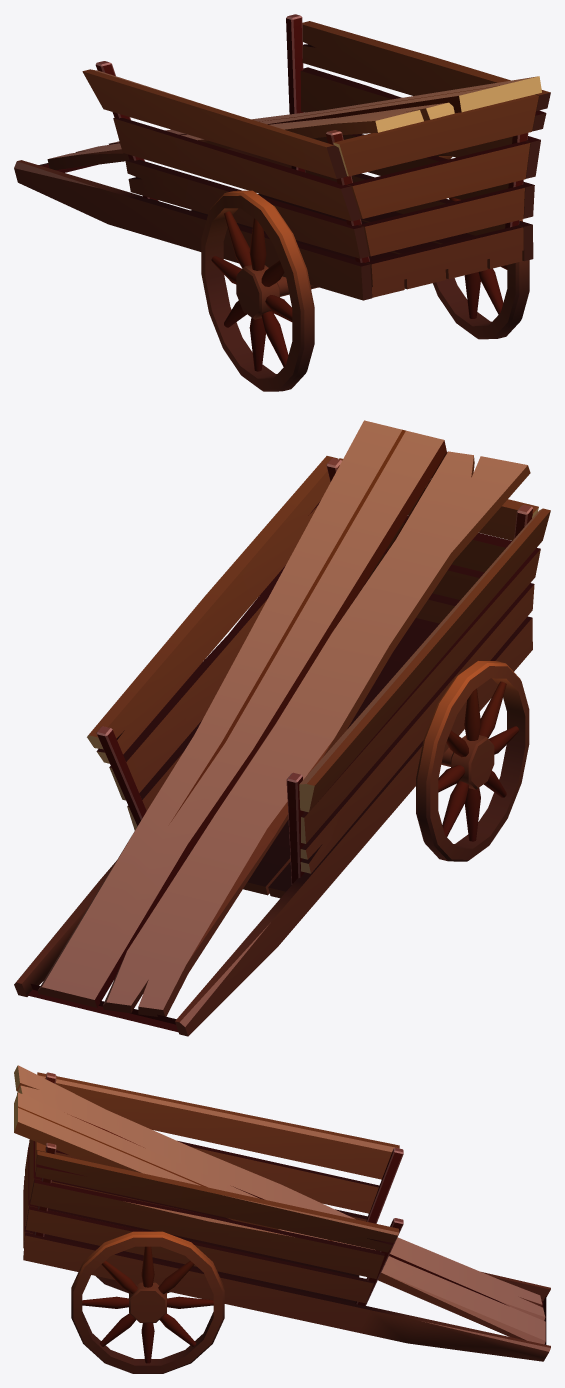
The model's file is wooden_wagon.fbx.
3 views of the same model, one above another, from view 1: azimuth 30°, elevation 25°; view 2: azimuth 150°, elevation 25°; view 3: azimuth 270°, elevation 25° (orthographic). The views are drawn at different scales.
Visible parts, largest first — view 1: stair.001; view 2: stair.001; view 3: stair.001.
Boxes of the visible parts, <box> form: stair.001: <box>14,14,550,391</box>; stair.001: <box>14,420,550,1036</box>; stair.001: <box>14,1065,550,1373</box>.
Size of the model in its own units: 1.11 by 1.46 by 2.92.
